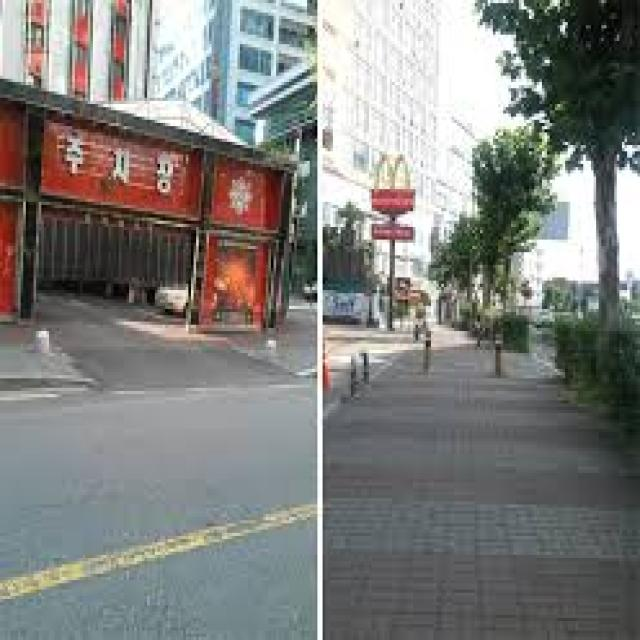bollard: (344, 347, 374, 393), (24, 322, 60, 360), (489, 324, 507, 379), (422, 326, 436, 380), (263, 328, 284, 358)
